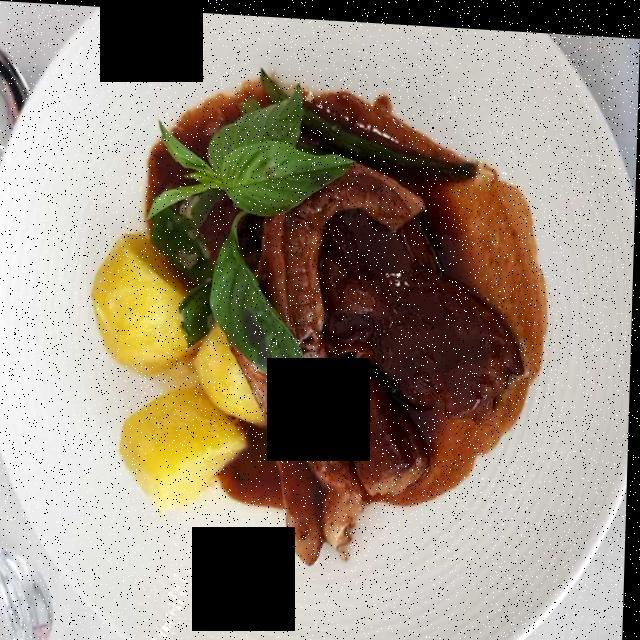potatoes: (108, 237, 266, 525)
sauce: (146, 88, 541, 505)
